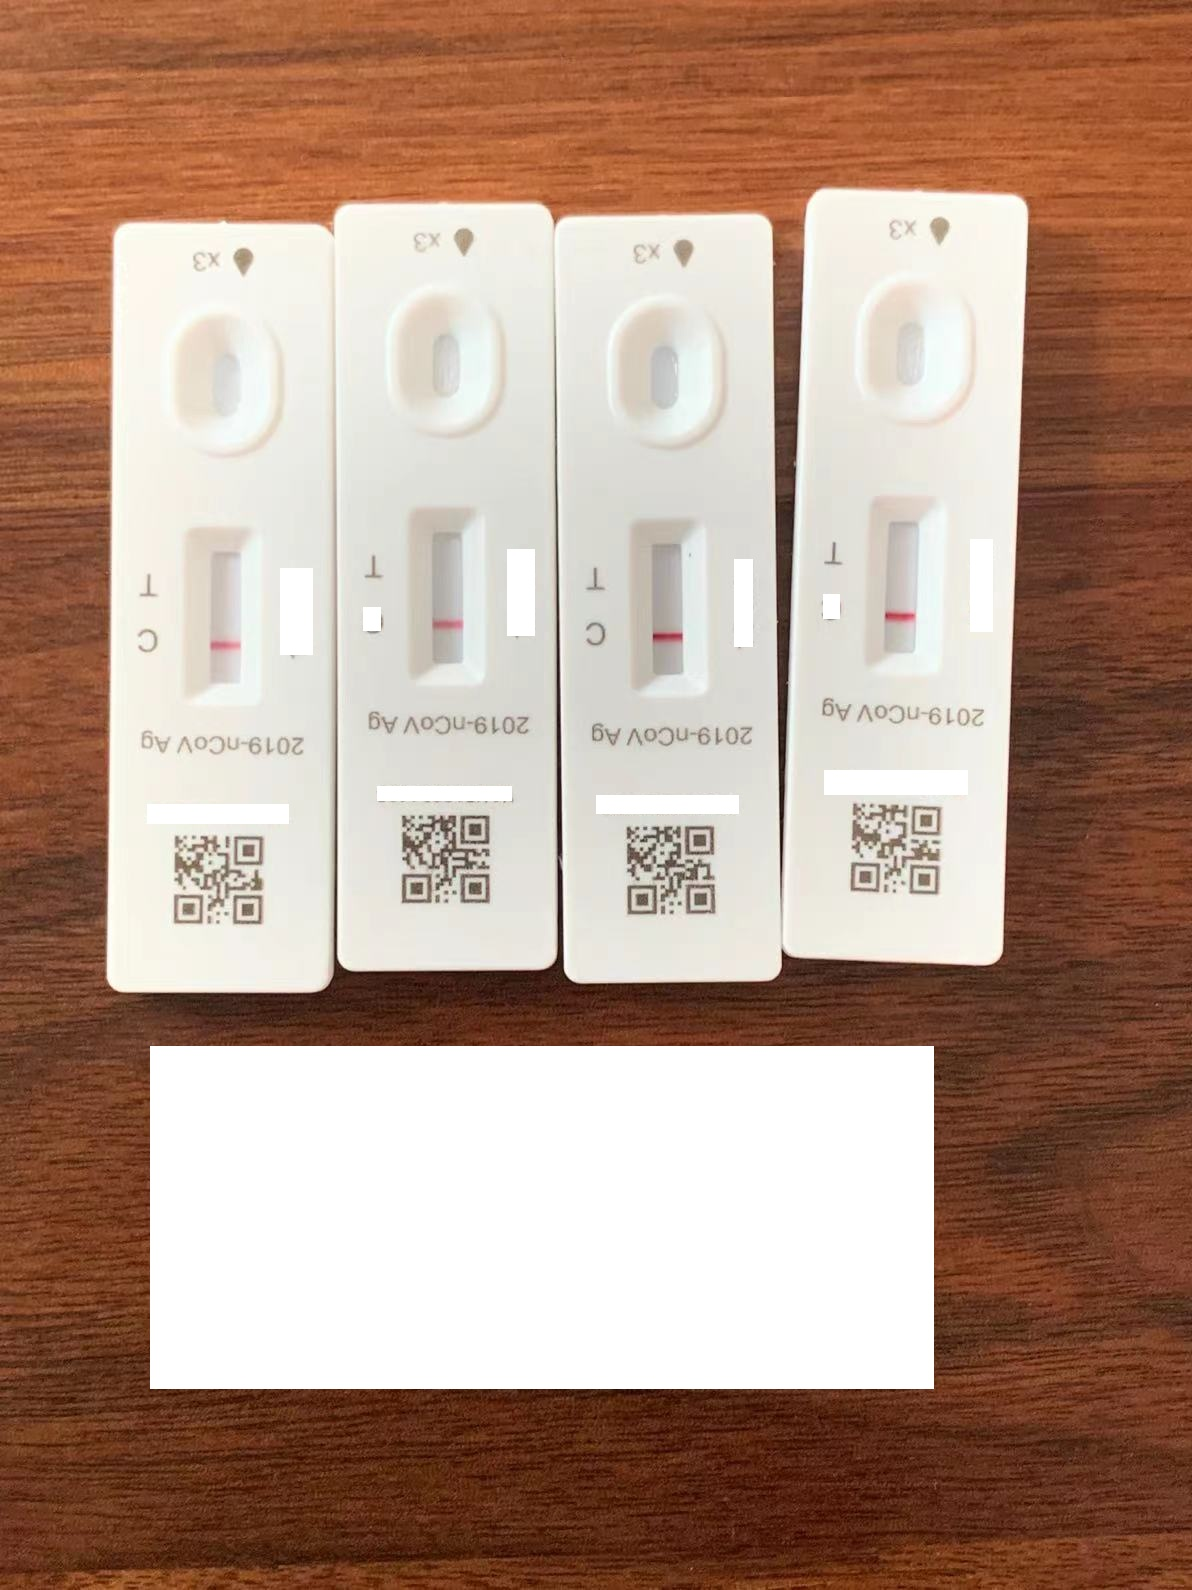negative: (626, 518, 712, 696), (175, 526, 257, 709), (864, 495, 942, 674), (407, 508, 485, 685)
